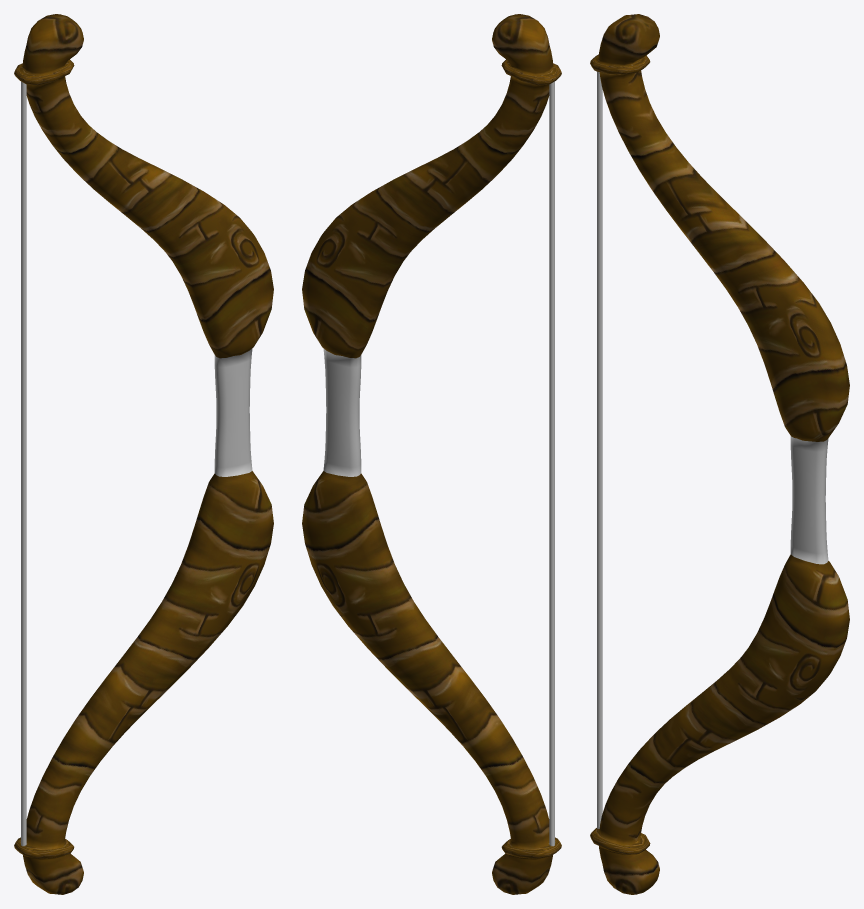
Rendered from bow.obj.
3 views of the same model, side by side, from view 1: azimuth 30°, elevation 25°; view 2: azimuth 150°, elevation 25°; view 3: azimuth 330°, elevation 25° (orthographic).
Visible parts, largest first — view 1: Bow_Plane.001, Cylinder; view 2: Bow_Plane.001, Cylinder; view 3: Bow_Plane.001, Cylinder.
Boxes of the visible parts, x1,y1,x2,y2 form: Bow_Plane.001: (14, 14, 273, 894); Cylinder: (21, 81, 26, 846); Bow_Plane.001: (302, 14, 561, 894); Cylinder: (549, 81, 554, 846); Bow_Plane.001: (590, 14, 849, 894); Cylinder: (597, 71, 602, 828).
Bounding box in the file's own units: 1.5 × 4.95 × 0.2376.
